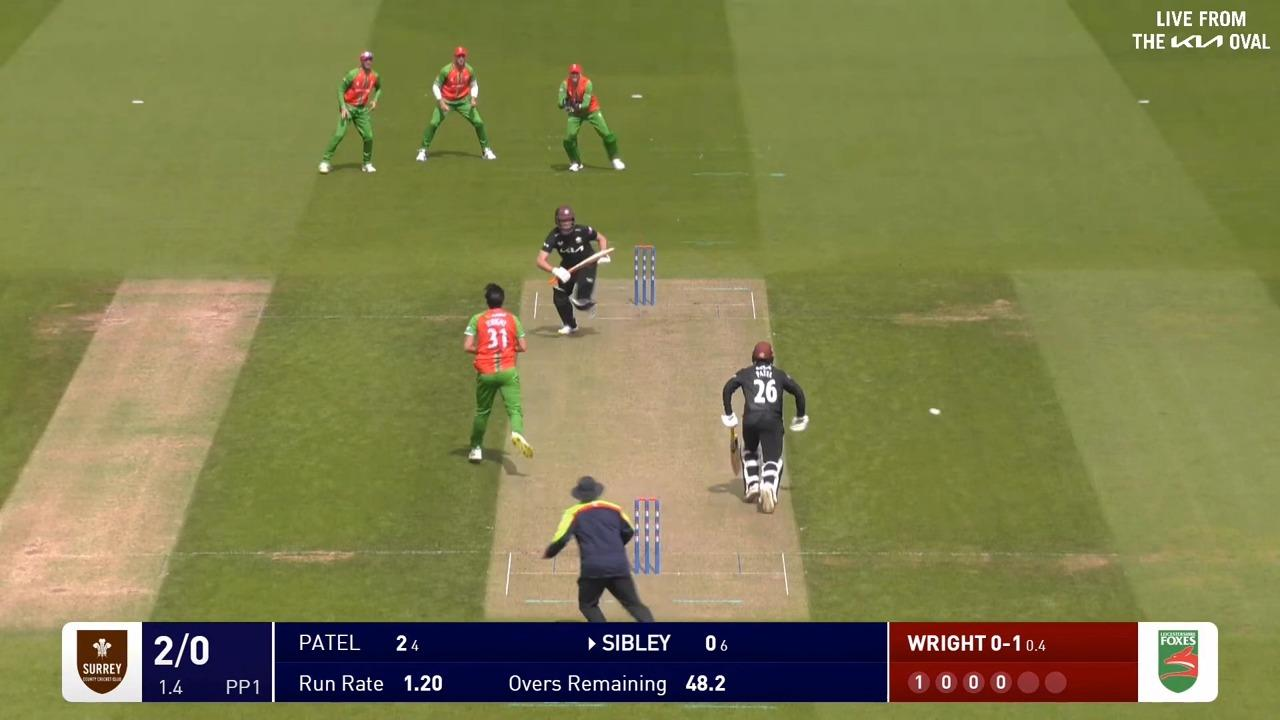sports ball: (929, 408, 941, 415)
